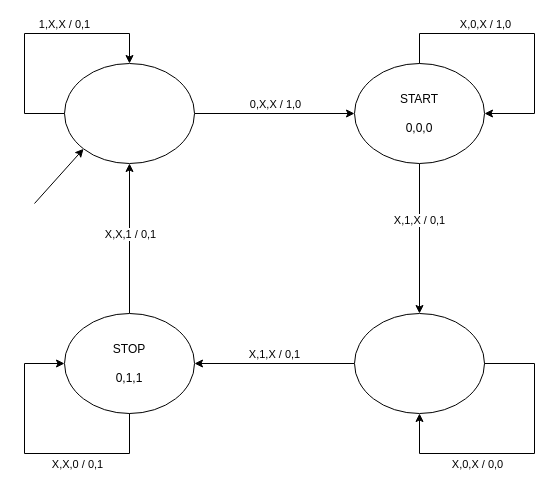
The diagram is 560 pixels wide and 487 high, and some of its shapes have lost their labels. The box of each missing label's shape, as (x1, y1, x2, y2) in pixels:
IDLE 0,0,0: (64, 62, 194, 164)
READ 1,1,0: (354, 312, 484, 414)
